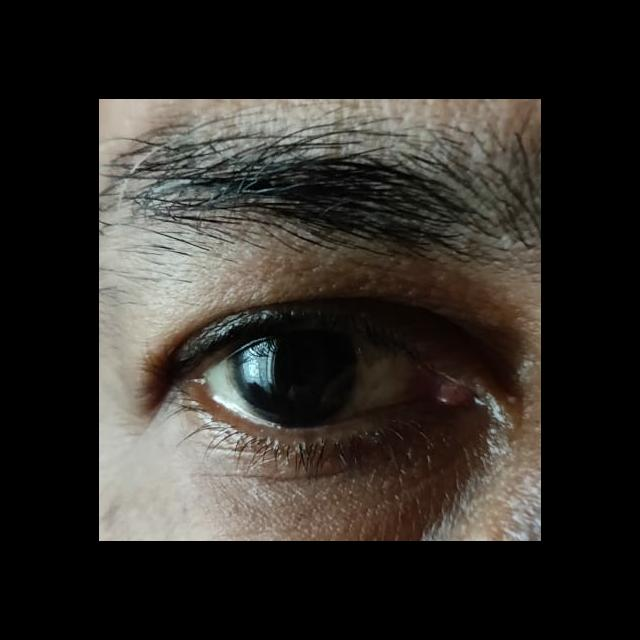eye: (205, 329, 418, 430)
iris: (228, 335, 358, 424)
